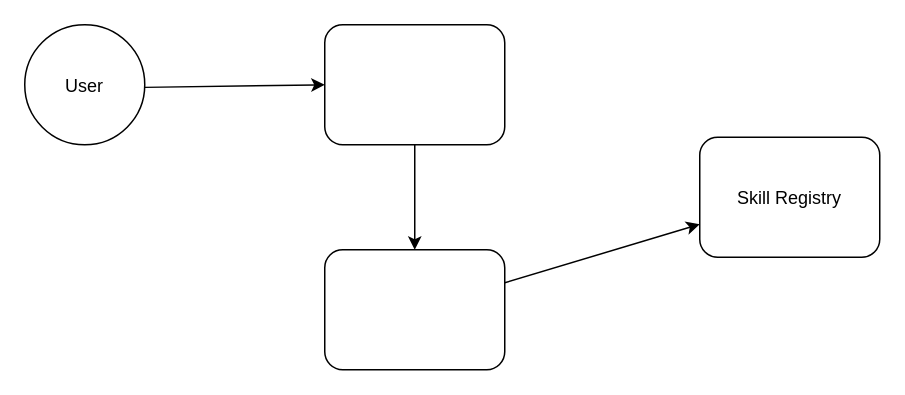
The diagram is 905 pixels wide and 395 high, and some of its shapes have lost their labels. The shapes that lost their labels are listed below. From the top down, each one's centre as x and y in pixels, then its label:
At point 414,84: "Agent System".
At point 414,309: "Skill Matcher".
